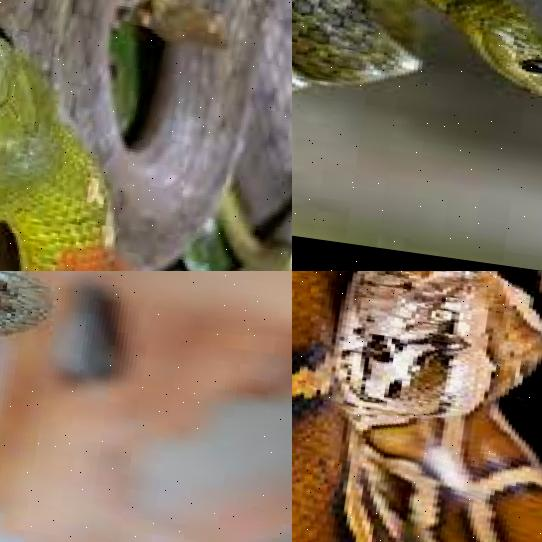snake: (0, 0, 292, 271), (292, 271, 542, 542), (292, 0, 542, 134), (0, 271, 57, 542)
